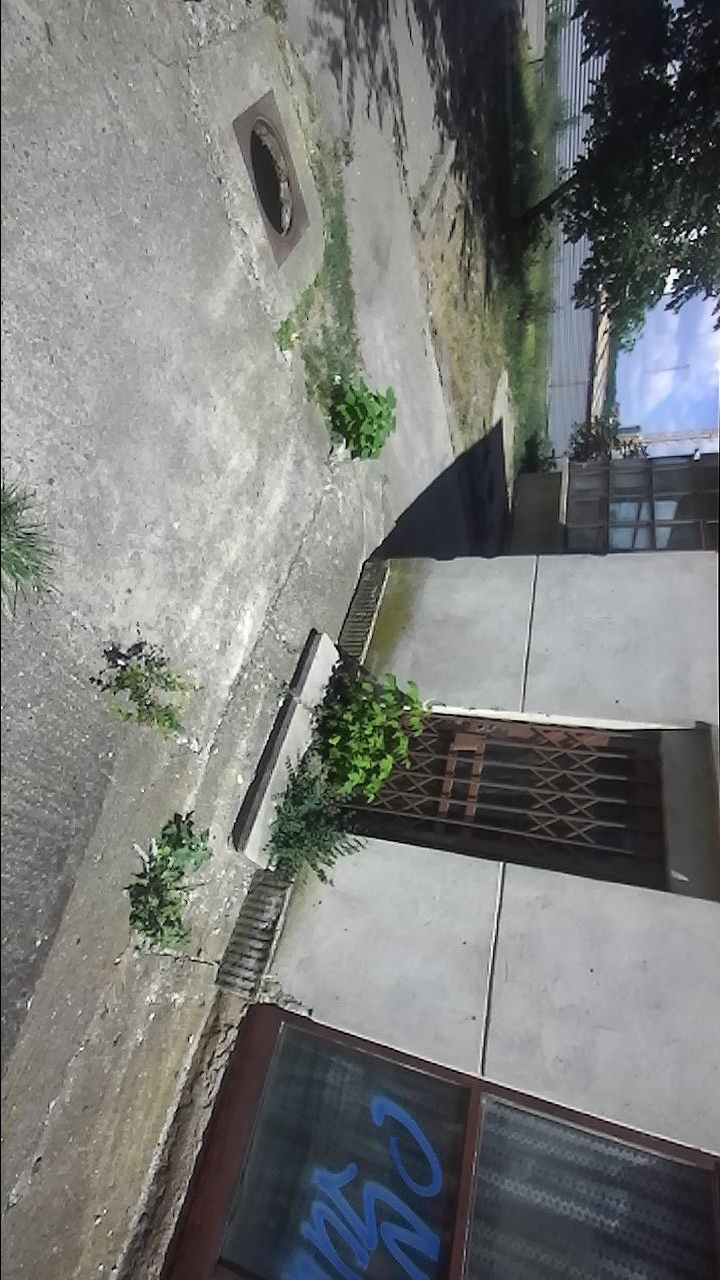drain: (246, 110, 299, 255)
